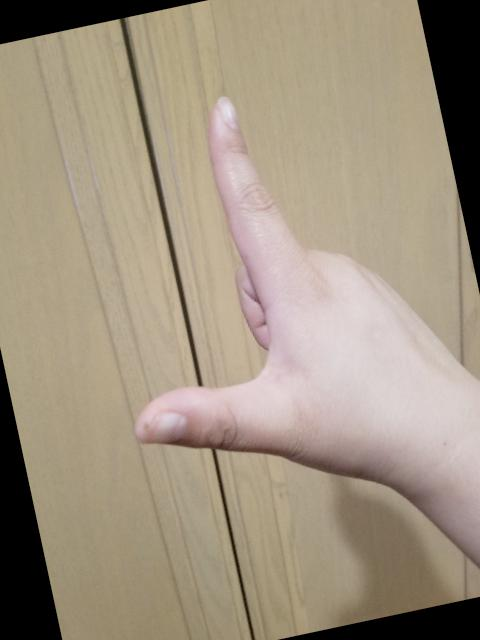L: (61, 48, 480, 546)
